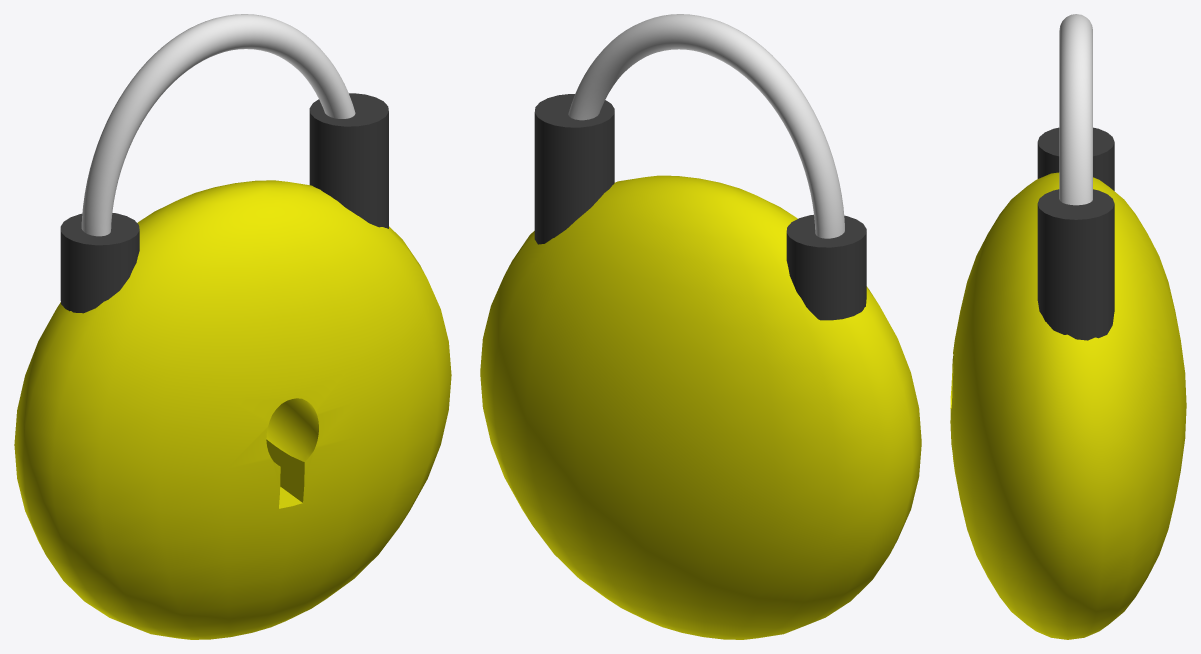
File: Lock.fbx
3 renders of one model, left to right at view 1: azimuth 30°, elevation 25°; view 2: azimuth 150°, elevation 25°; view 3: azimuth 270°, elevation 25°, orthographic. The views are drawn at different scales.
Visible parts, largest first — view 1: polySurface158; view 2: polySurface158; view 3: polySurface158.
Boxes of the visible parts, <box> form: polySurface158: <box>14,14,451,639</box>; polySurface158: <box>480,14,921,639</box>; polySurface158: <box>950,14,1186,639</box>.
Bounding box in the file's own units: 4.26 × 5.91 × 2.15.
